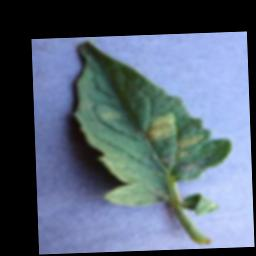Leaf_Mold: (144, 110, 177, 142), (173, 133, 206, 159)
